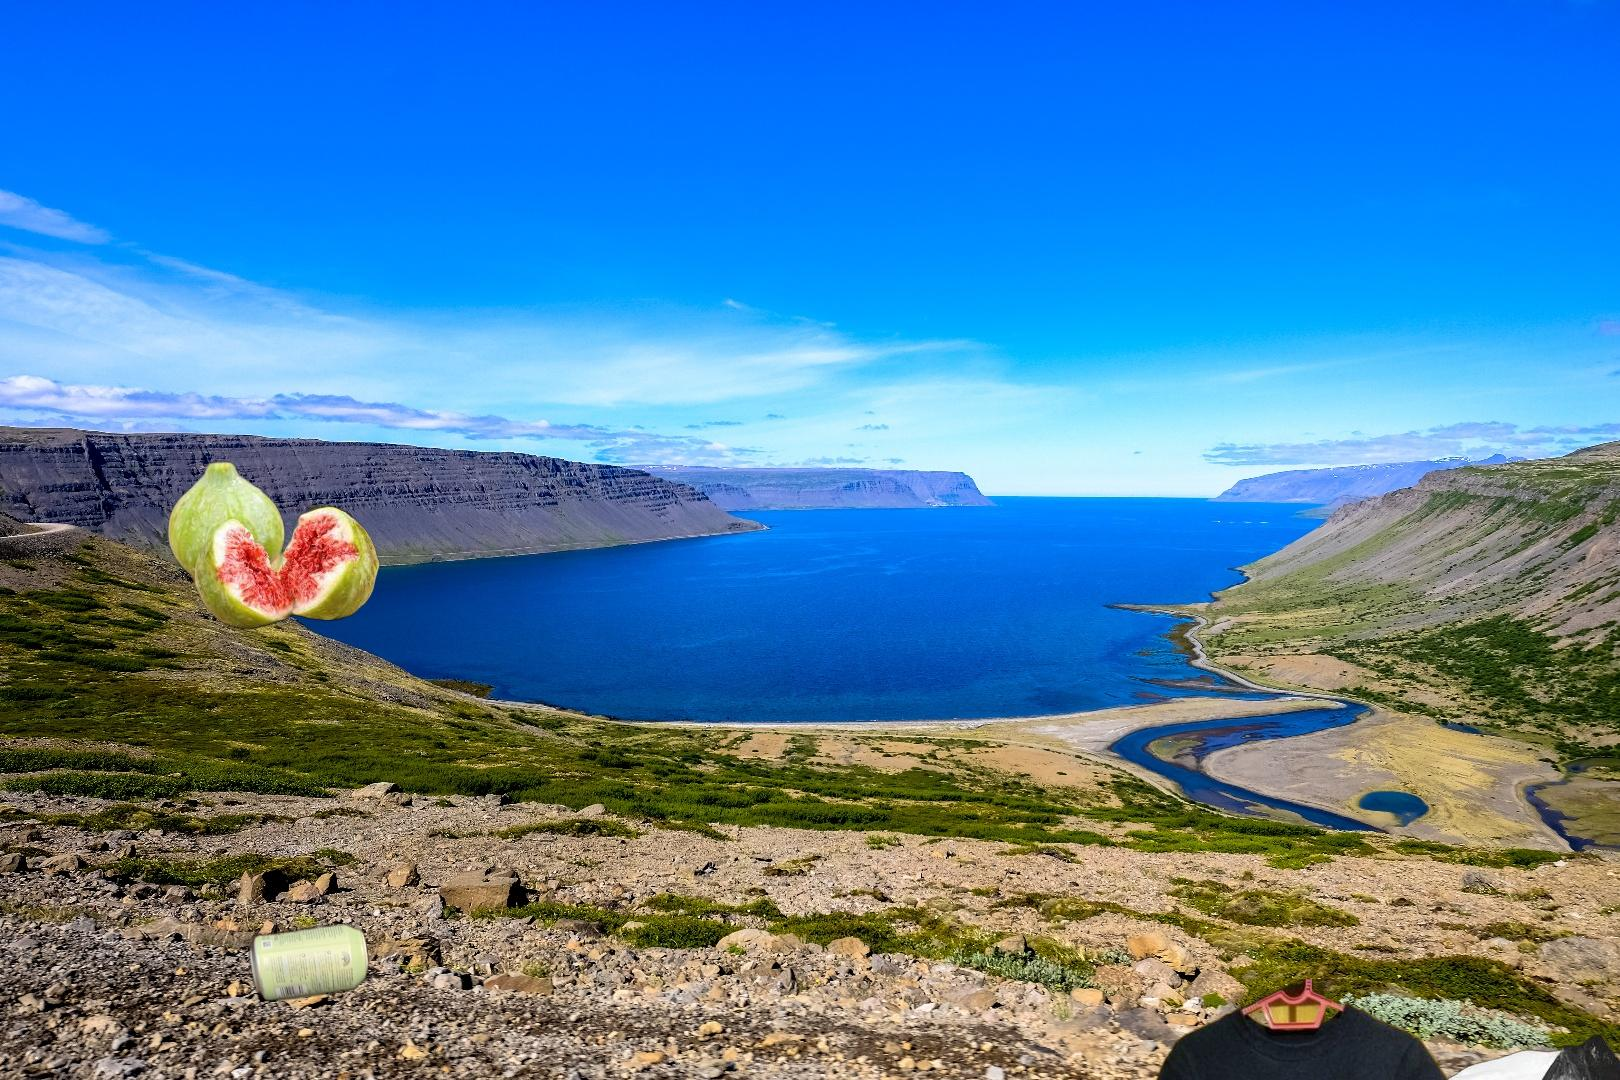biological: (165, 458, 383, 632)
clothes: (1134, 979, 1479, 1080)
metal-cans: (245, 918, 372, 1008)
plastic-bag: (1421, 1032, 1620, 1080), (1566, 1050, 1620, 1080)
